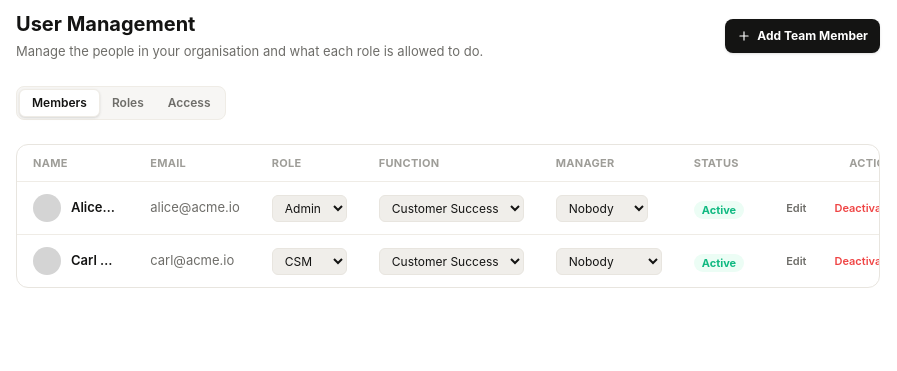
Test: UserManagement page › surfaces the backend’s last-user-manager guardrail instead of failing silently
Select "CSM" in the dropdown named "Role for Alice Admin": (309, 208) 272,194 -> 347,222
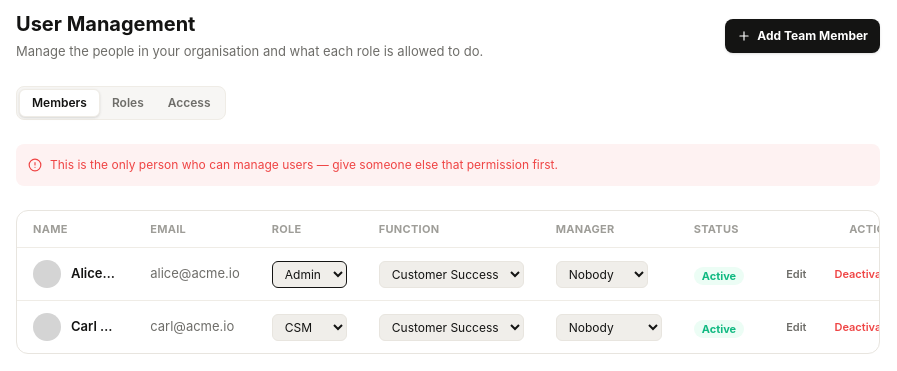
Now the text "only person who can manage users" is shown, box 50,156 -> 558,172
